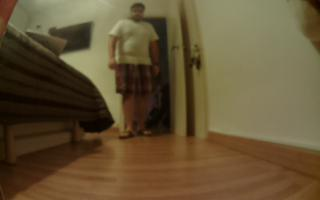person: (106, 1, 165, 142)
